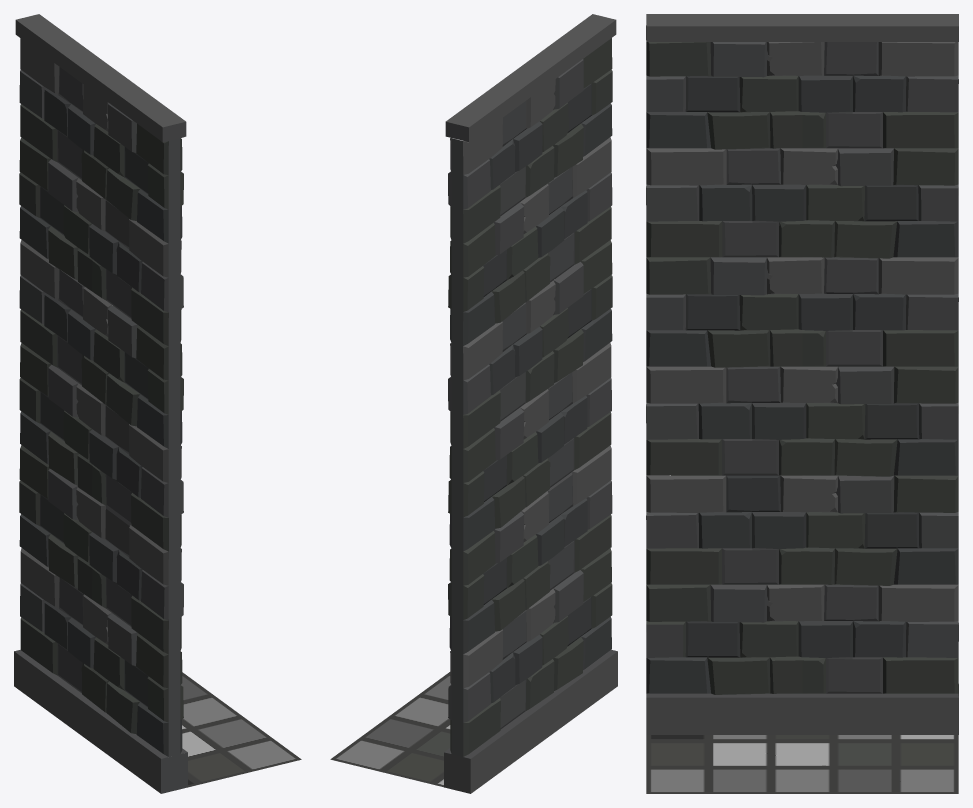
The model's file is Dungeon_Tilemap_10.gltf.
The picture shows the model from 3 angles, left to right: view 1: azimuth 30°, elevation 25°; view 2: azimuth 150°, elevation 25°; view 3: azimuth 270°, elevation 25°; orthographic projection. The views are drawn at different scales.
Visible parts, largest first — view 1: Dungeon_Tilemap_10; view 2: Dungeon_Tilemap_10; view 3: Dungeon_Tilemap_10.
Boxes of the visible parts, x1,y1,x2,y2 form: Dungeon_Tilemap_10: [14, 14, 301, 793]; Dungeon_Tilemap_10: [330, 14, 617, 793]; Dungeon_Tilemap_10: [646, 14, 958, 793].
Bounding box in the file's own units: 0.5531 × 2.5 × 1.
Materials: 2 (2 with a texture image).
